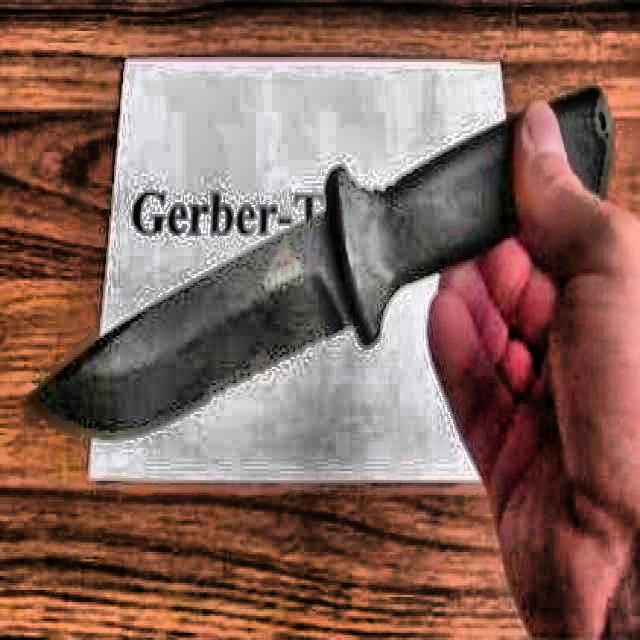knife: (30, 84, 614, 441)
